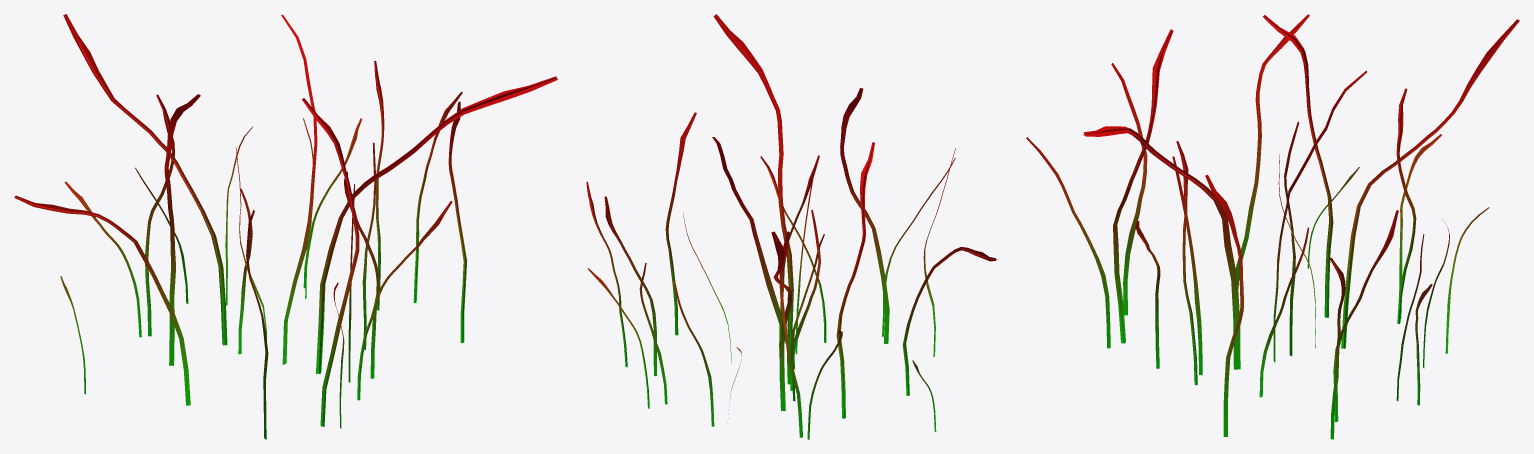
File: Cotton Grass_LOD0_Var8_wlykecdia.fbx
3 views of the same model, side by side, from view 1: azimuth 30°, elevation 25°; view 2: azimuth 150°, elevation 25°; view 3: azimuth 270°, elevation 25° (orthographic). The views are drawn at different scales.
Visible parts, largest first — view 1: _0izq_Var8_LOD0; view 2: _0izq_Var8_LOD0; view 3: _0izq_Var8_LOD0.
Part boxes in pixels (x1,y1,x2,y2): _0izq_Var8_LOD0: [14, 14, 557, 439]; _0izq_Var8_LOD0: [586, 14, 997, 439]; _0izq_Var8_LOD0: [1026, 14, 1519, 439].
Bounding box in the file's own units: 23.87 × 15.49 × 21.77.
